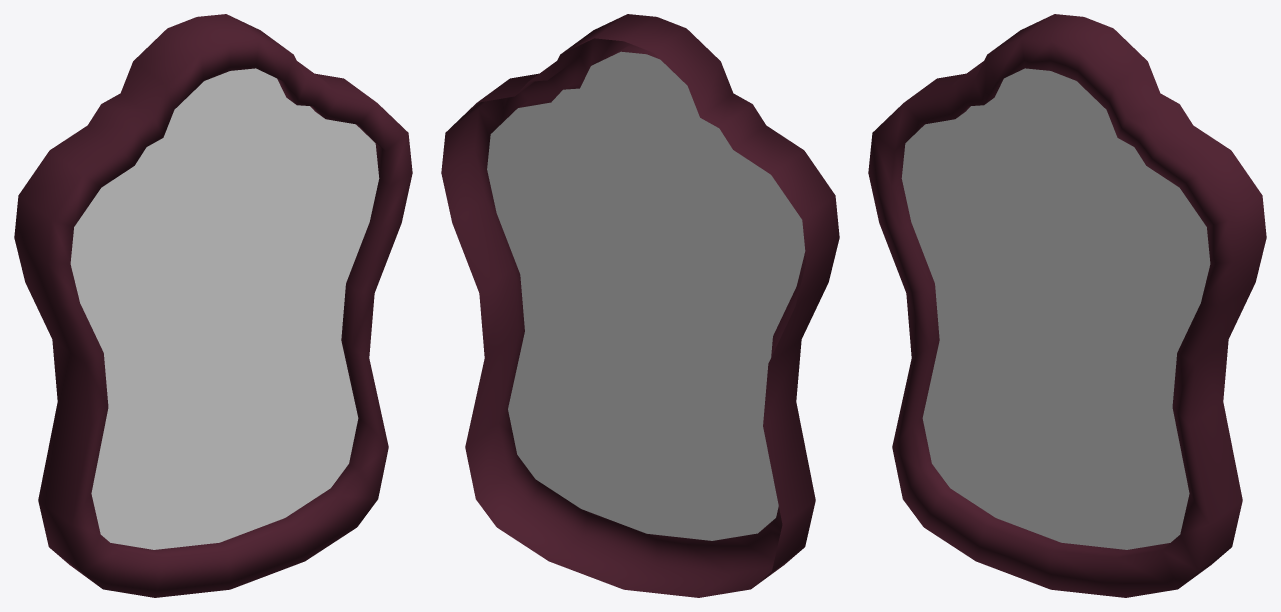
The model's file is Mirror.glb.
The picture shows the model from 3 angles, left to right: view 1: azimuth 30°, elevation 25°; view 2: azimuth 150°, elevation 25°; view 3: azimuth 330°, elevation 25°; orthographic projection.
Parts seen in each view (by area): view 1: mirror; view 2: mirror; view 3: mirror.
Part boxes in pixels (x1,y1,x2,y2): mirror: (14,14,412,597); mirror: (441,14,839,597); mirror: (868,14,1266,597).
Size of the model in its own units: 2.21 by 3.17 by 0.3492.
